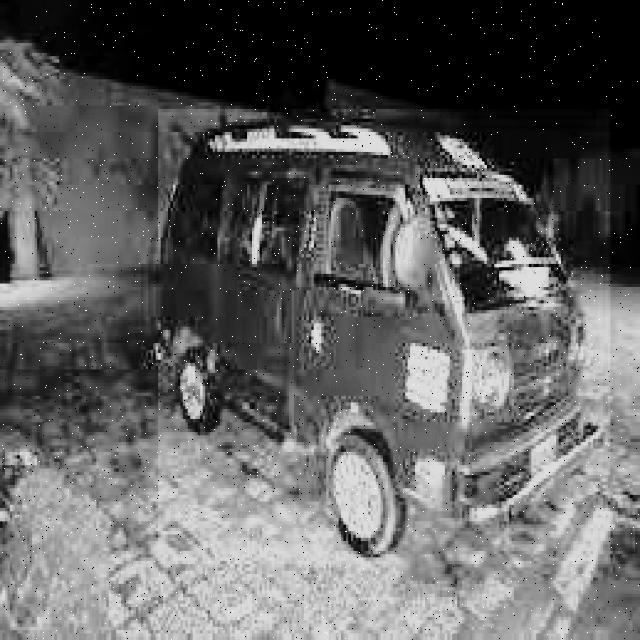LCV: (156, 109, 610, 567)
